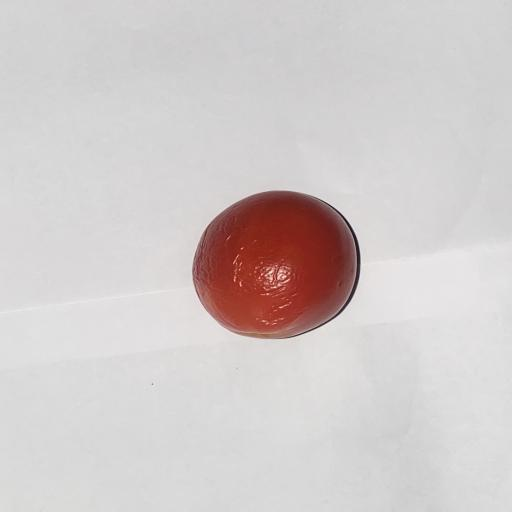spoiled: (193, 191, 357, 338)
